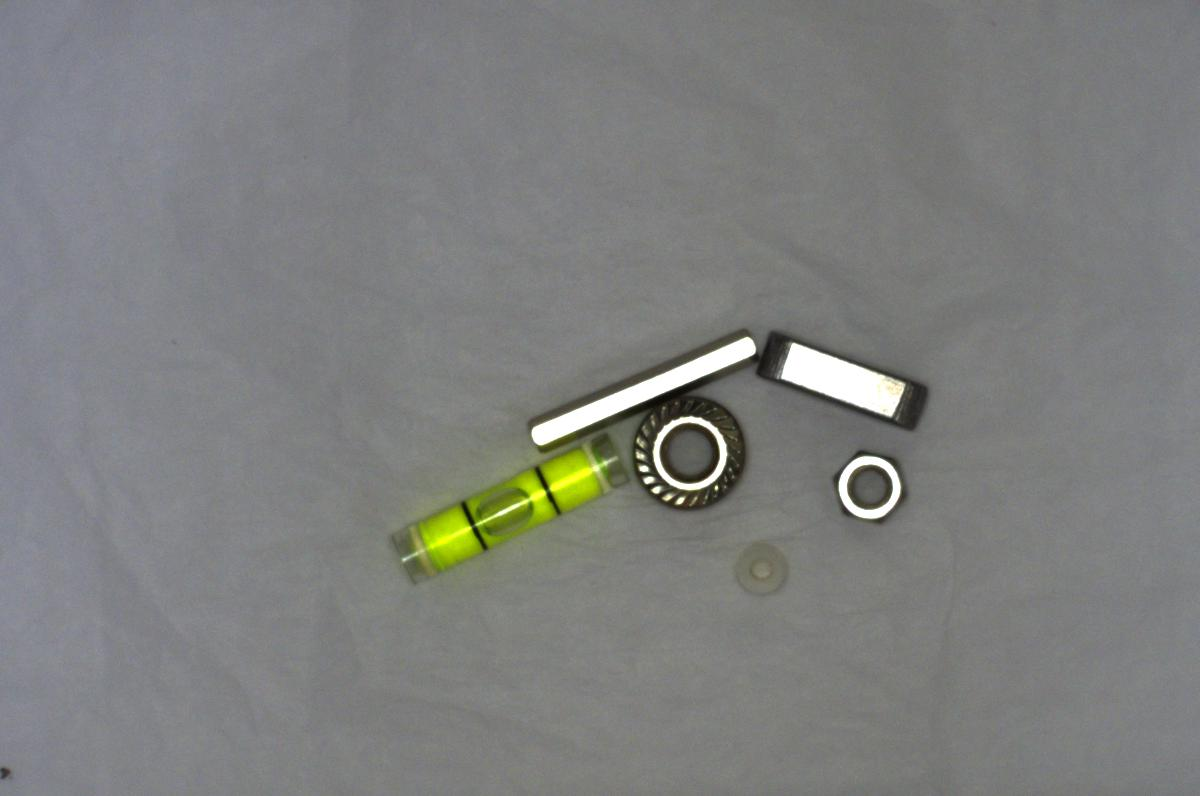Double hexagonal column: (525, 328, 764, 456)
Flange nut: (629, 390, 752, 513)
Hexagon nut: (828, 440, 920, 531)
Horizontal bubble: (387, 419, 632, 589)
Keybar: (751, 333, 946, 433)
Plastic cushion pillar: (725, 518, 789, 606)
